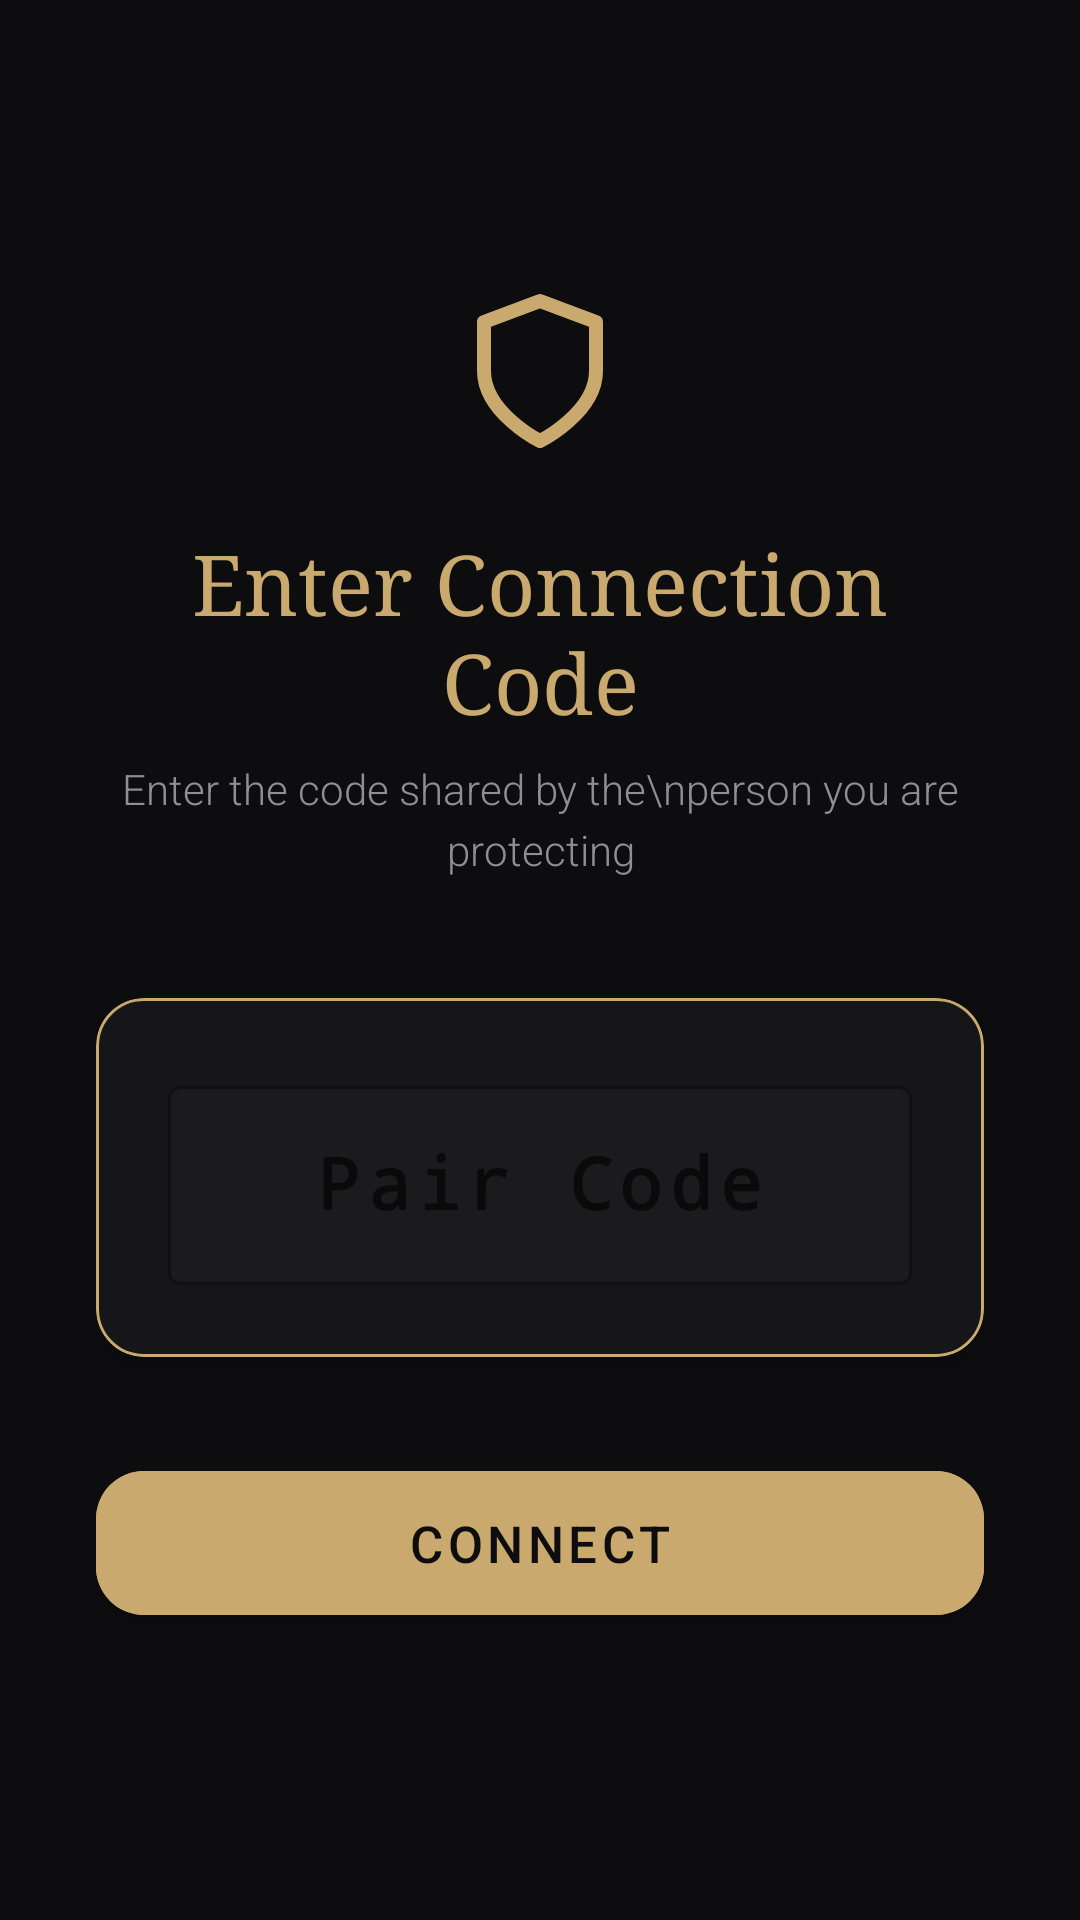

Icons on this 1080px x 1920px Android screen, each with its box as (x1, y1, x2, y2):
shield vlynxly: (477, 294, 603, 448)
